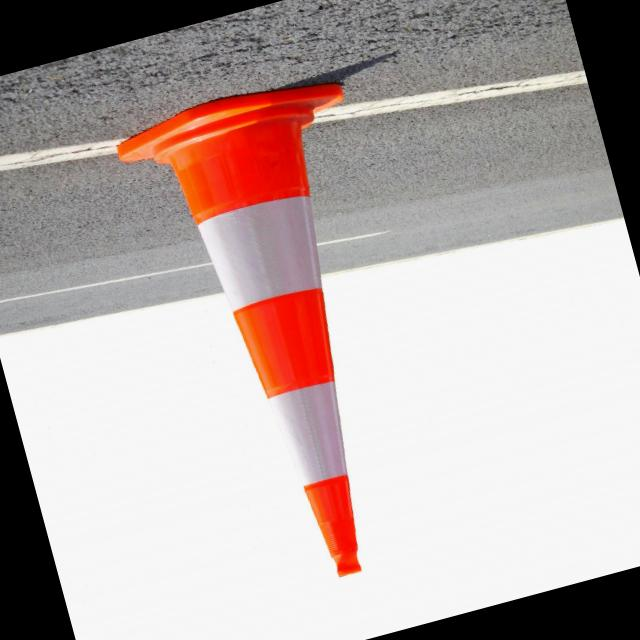cone: (112, 70, 452, 614)
